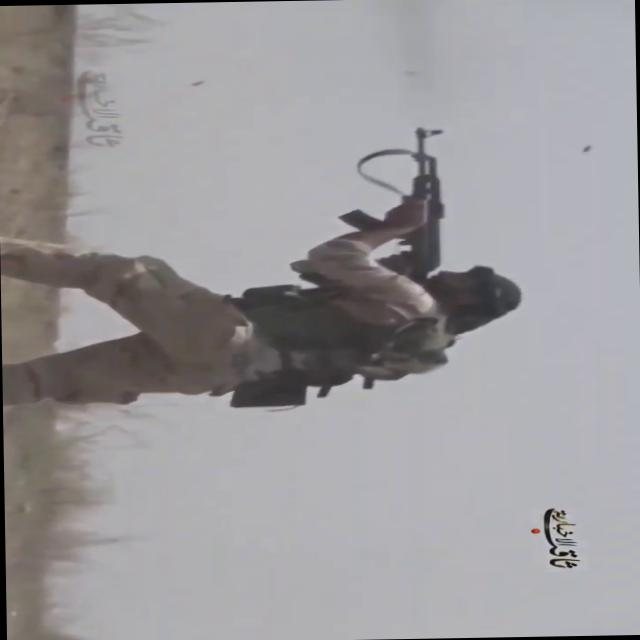long weapon: (334, 115, 450, 275)
